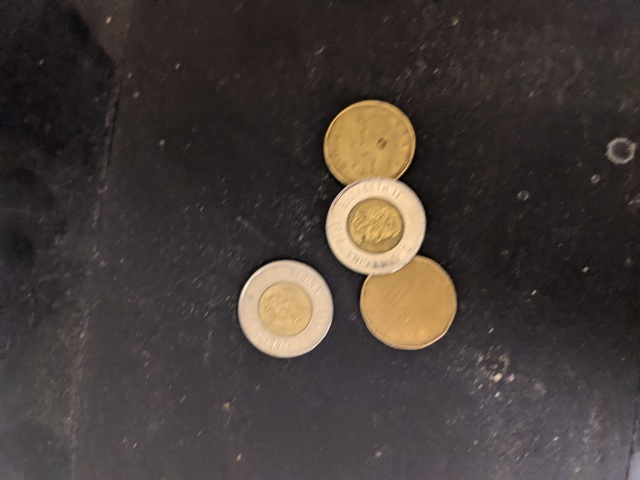loonie: (352, 252, 459, 354), (320, 99, 419, 195)
twonie: (238, 260, 350, 362), (322, 174, 434, 273)
